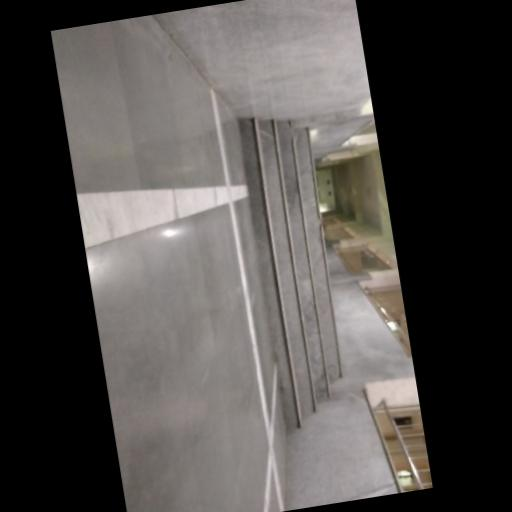stairs: (240, 119, 340, 428)
